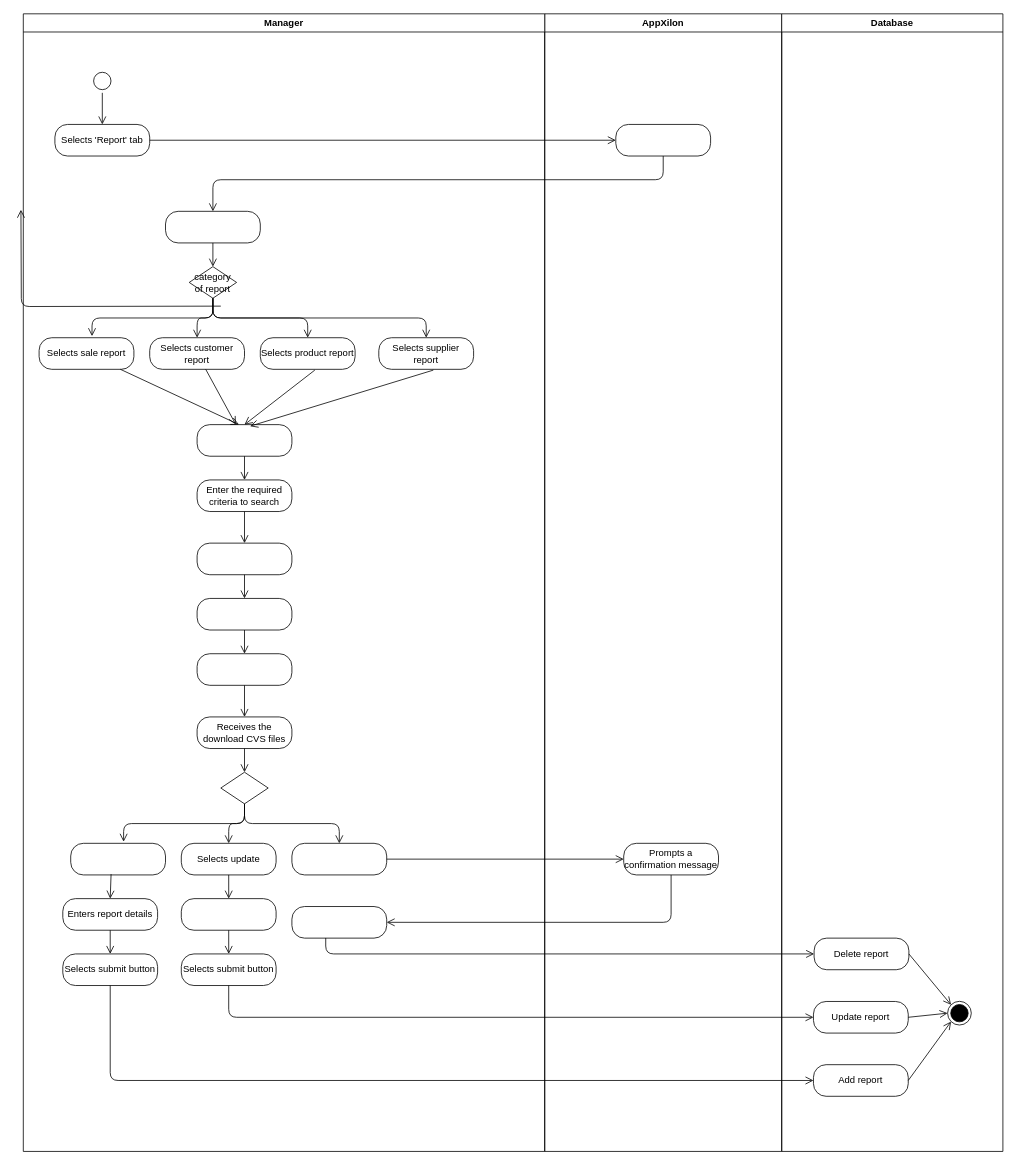
Image size: 1017x1165. Some labels were removed from this diagram. Here are the shapes that lost their labels. From the top down, the centre of each, then its label:
the point at 663,140: Displays report dashboard
the point at 212,227: Selects category report
the point at 244,440: Selects search sort by date
the point at 244,558: Receives result
the point at 244,614: Selects to export to CVS
the point at 244,669: Enter the required criteria to export
the point at 118,859: Selects create
the point at 339,859: Selects delete
the point at 228,914: Enters the updated report details
the point at 339,922: selects confirm button
